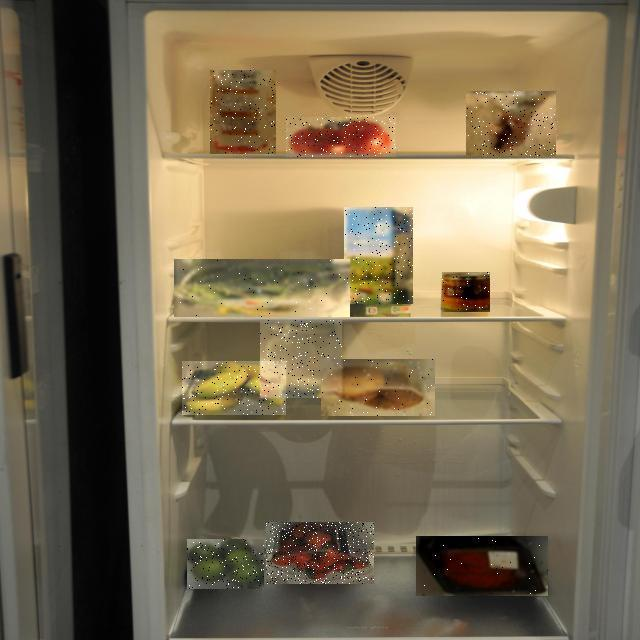Banana: (182, 361, 286, 415)
Corn: (442, 272, 490, 312)
Flour: (260, 320, 342, 398), (466, 91, 556, 156)
Lime: (187, 539, 264, 589)
Meat: (416, 536, 548, 596)
Milk: (344, 207, 413, 304)
Potatoes: (321, 359, 435, 416)
Spinach: (174, 259, 350, 317)
Straw Berry: (266, 522, 374, 584)
Sugar: (210, 70, 276, 154)
Tomato Paste: (286, 117, 396, 157)
